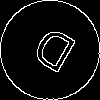D: (25, 25, 79, 83)
